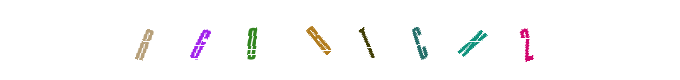0: (253, 0, 333, 80)
2: (486, 0, 566, 80)
B: (279, 0, 359, 80)
C: (300, 0, 380, 80)
G: (189, 0, 269, 80)
N: (401, 0, 481, 80)
R: (160, 0, 240, 80)
T: (284, 0, 364, 80)
